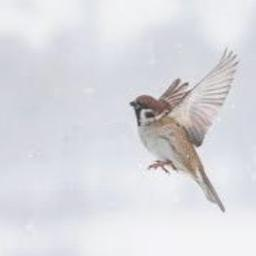Sparrow: (130, 47, 241, 212)
